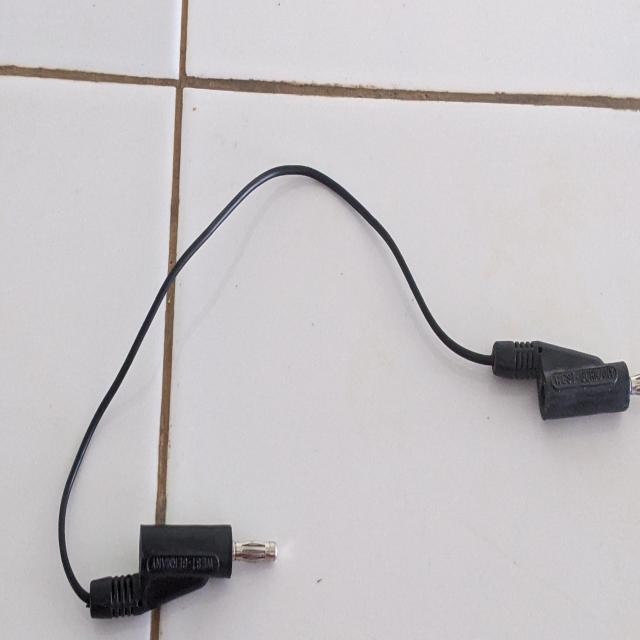BNC Cable: (26, 153, 640, 639)
